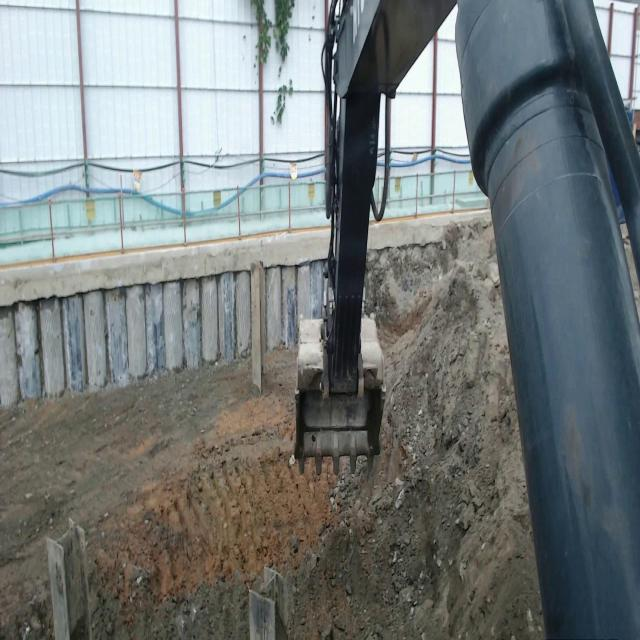white-sand: (0, 220, 544, 639)
